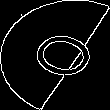O_SE: (13, 24, 97, 86)
